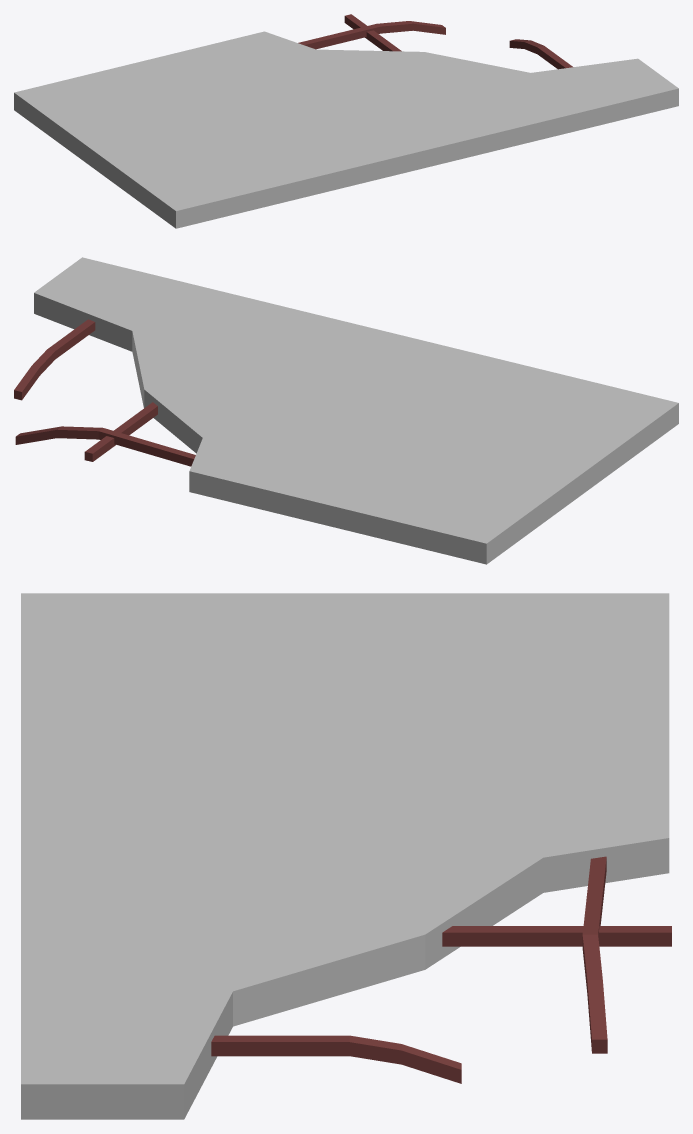
The model's file is LightStoneFloorMediumBrokenConcreteFloor2.fbx.
The picture shows the model from 3 angles, top to bottom: view 1: azimuth 30°, elevation 25°; view 2: azimuth 150°, elevation 25°; view 3: azimuth 270°, elevation 25°; orthographic projection. The views are drawn at different scales.
Parts seen in each view (by area): view 1: LightStoneFloorMediumBrokenConcreteFloor2; view 2: LightStoneFloorMediumBrokenConcreteFloor2; view 3: LightStoneFloorMediumBrokenConcreteFloor2.
Part boxes in pixels (x1,y1,x2,y2): LightStoneFloorMediumBrokenConcreteFloor2: (14, 14, 678, 228); LightStoneFloorMediumBrokenConcreteFloor2: (14, 257, 678, 564); LightStoneFloorMediumBrokenConcreteFloor2: (21, 593, 671, 1119).
Size of the model in its own units: 896 by 49.11 by 502.
Materials: 2 (2 with a texture image).
